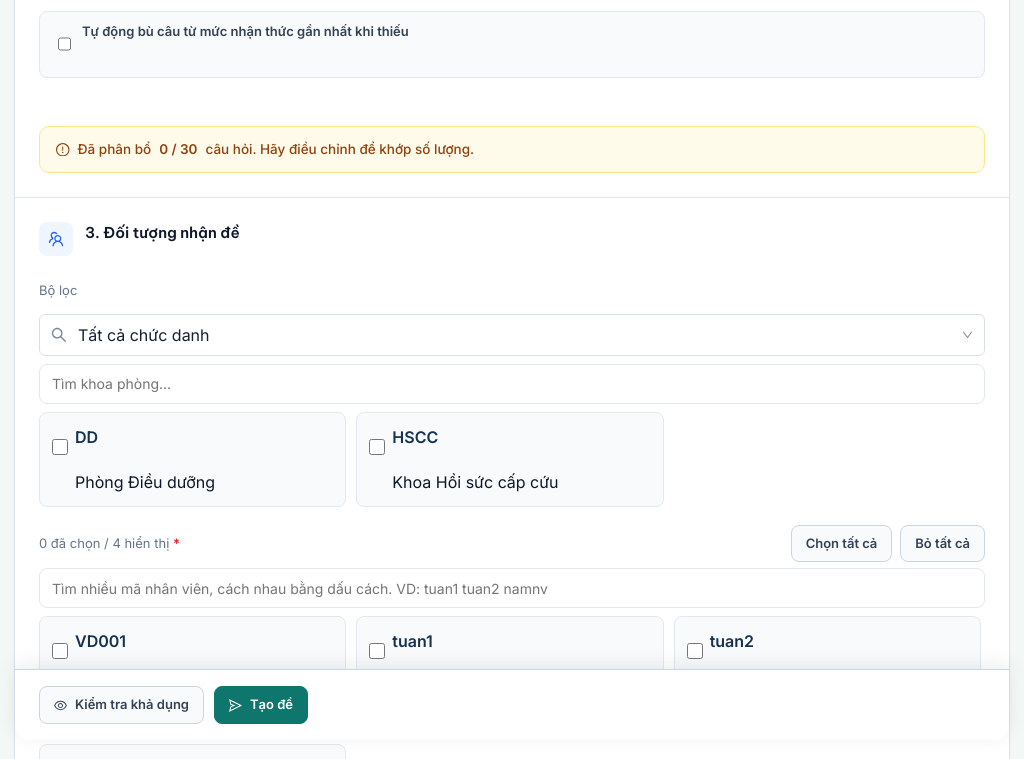
ExamConfigPage blueprint flow › loc danh sach khoa phong theo tu khoa
This screenshot has width=1024, height=759.
(page scrolled)
Type "hồi sức" into the field labelled "Tìm khoa phòng" at (512, 384), box [39,364,985,404]
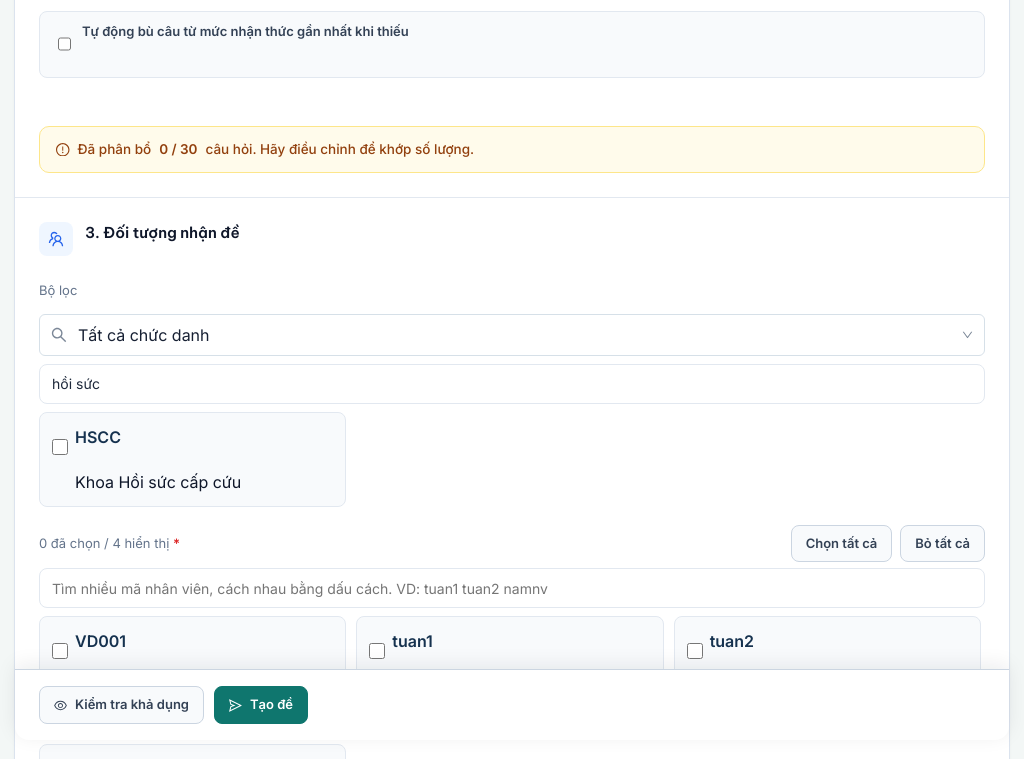
Expected: the text "HSCC" is shown, [75,426,121,446]
Expected: the text "DD" is gone
